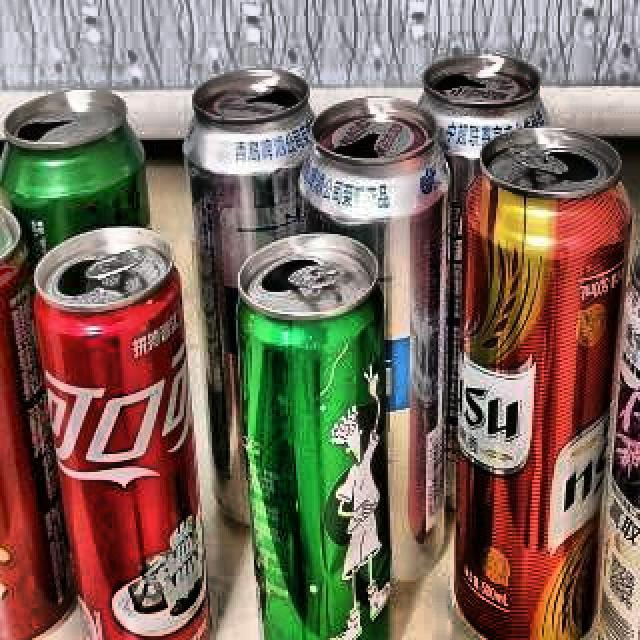metal: (456, 128, 632, 640), (294, 90, 474, 580), (32, 206, 230, 640), (234, 228, 412, 640), (182, 58, 332, 542), (0, 172, 86, 640), (0, 52, 172, 264), (586, 202, 640, 640), (416, 42, 564, 148)
